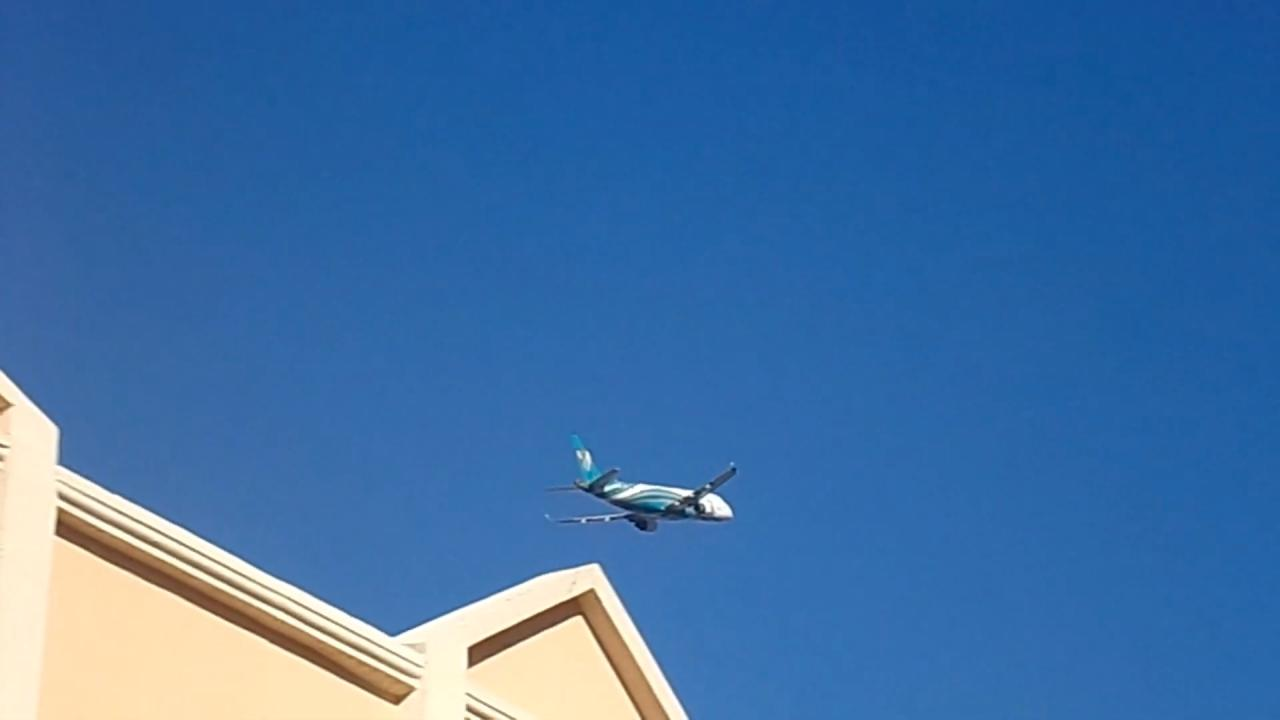Airplane: (525, 418, 753, 548)
